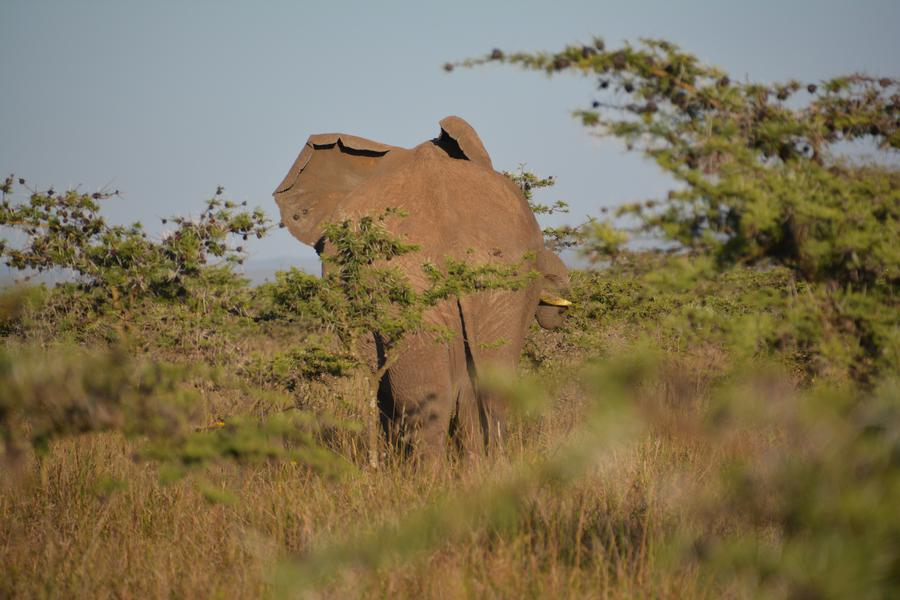elephant: (285, 116, 554, 446)
